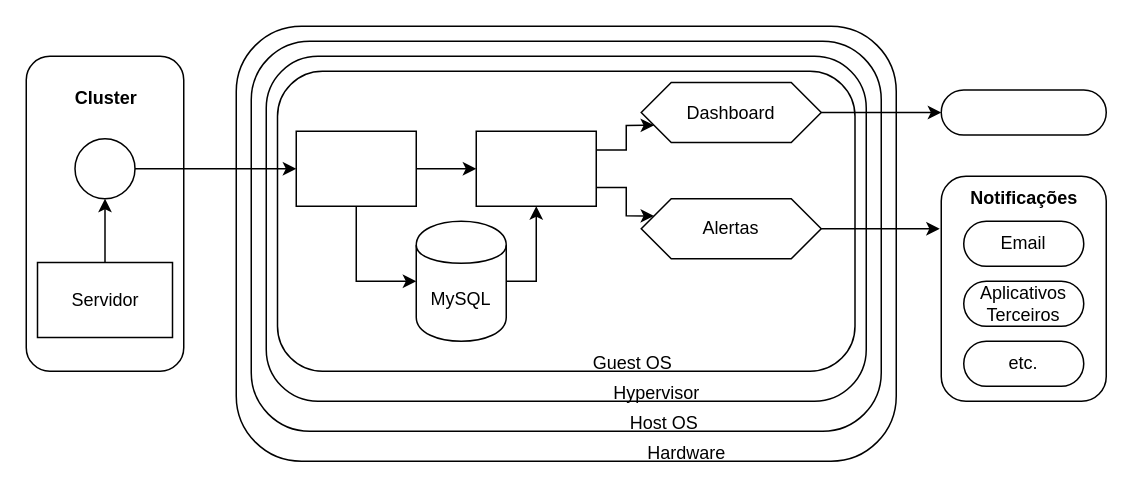
This 1133x503 diagram has some shape labels left out. Each missing label, with the centre of its shape:
"Grafana" belongs at point 535,168.
"Visualização" belongs at point 1023,111.
"Zabbix" belongs at point 355,168.
"Zabbix Agent" belongs at point 104,168.
